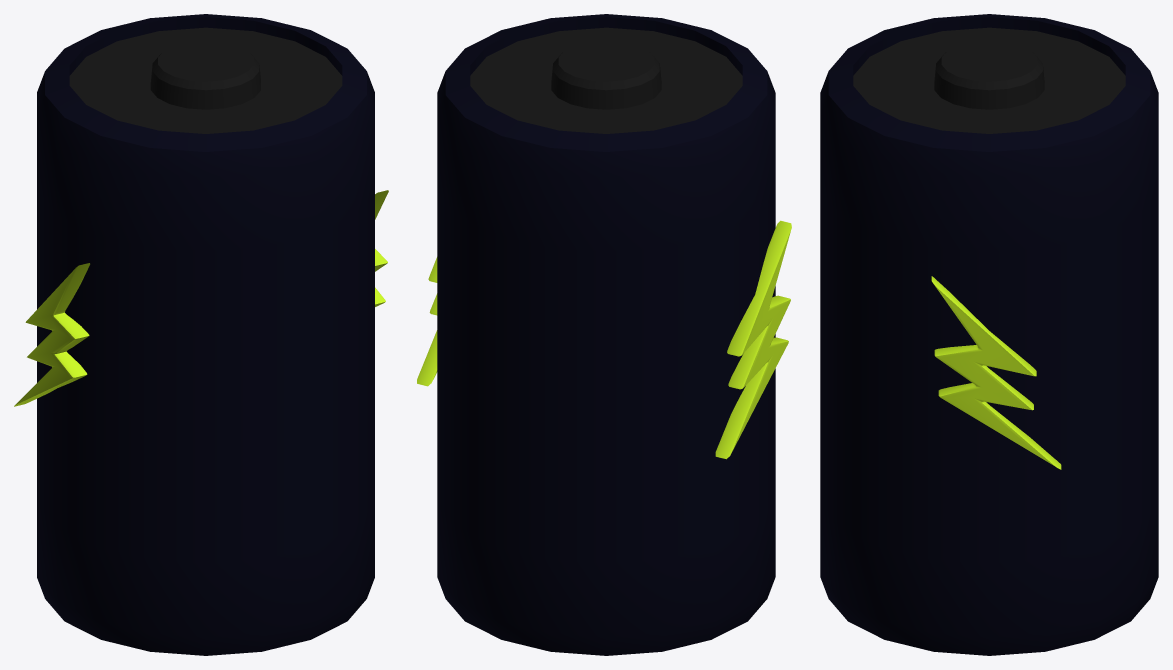
The model's file is Battery.fbx.
3 renders of one model, left to right at view 1: azimuth 30°, elevation 25°; view 2: azimuth 150°, elevation 25°; view 3: azimuth 270°, elevation 25°, orthographic.
Visible parts, largest first — view 1: Cylinder001; view 2: Cylinder001; view 3: Cylinder001.
Boxes of the visible parts, bbox=[...] form: Cylinder001: bbox=[14, 14, 388, 655]; Cylinder001: bbox=[417, 14, 791, 655]; Cylinder001: bbox=[820, 14, 1158, 655].
Bounding box in the file's own units: 6.35 × 10.28 × 5.91.
